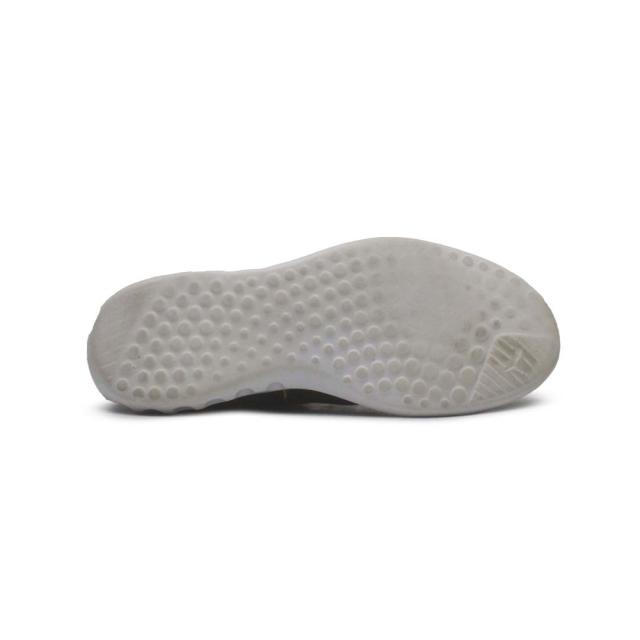outersole: (83, 235, 562, 418)
